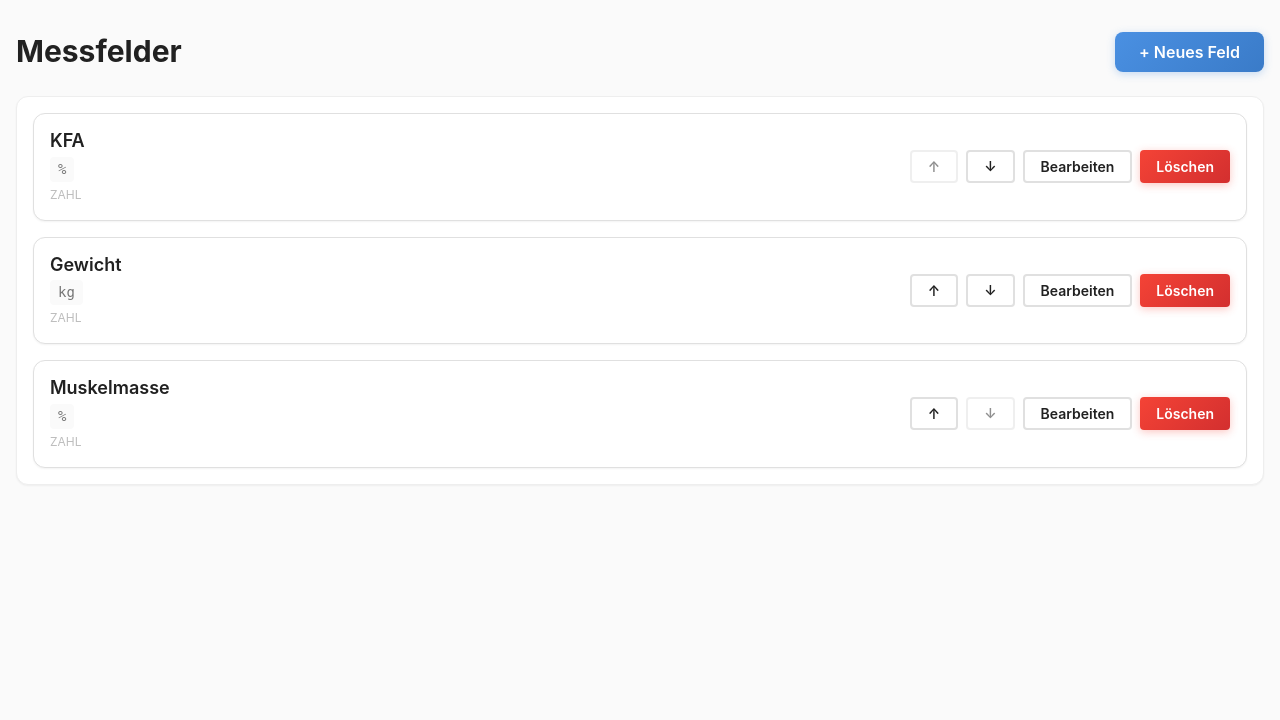
it: FieldsPage Component › Delete Field - With Config Impact › should show warning when field is used in view configs
Click the 1st button "Löschen": click(1185, 167) [1140, 150, 1230, 183]
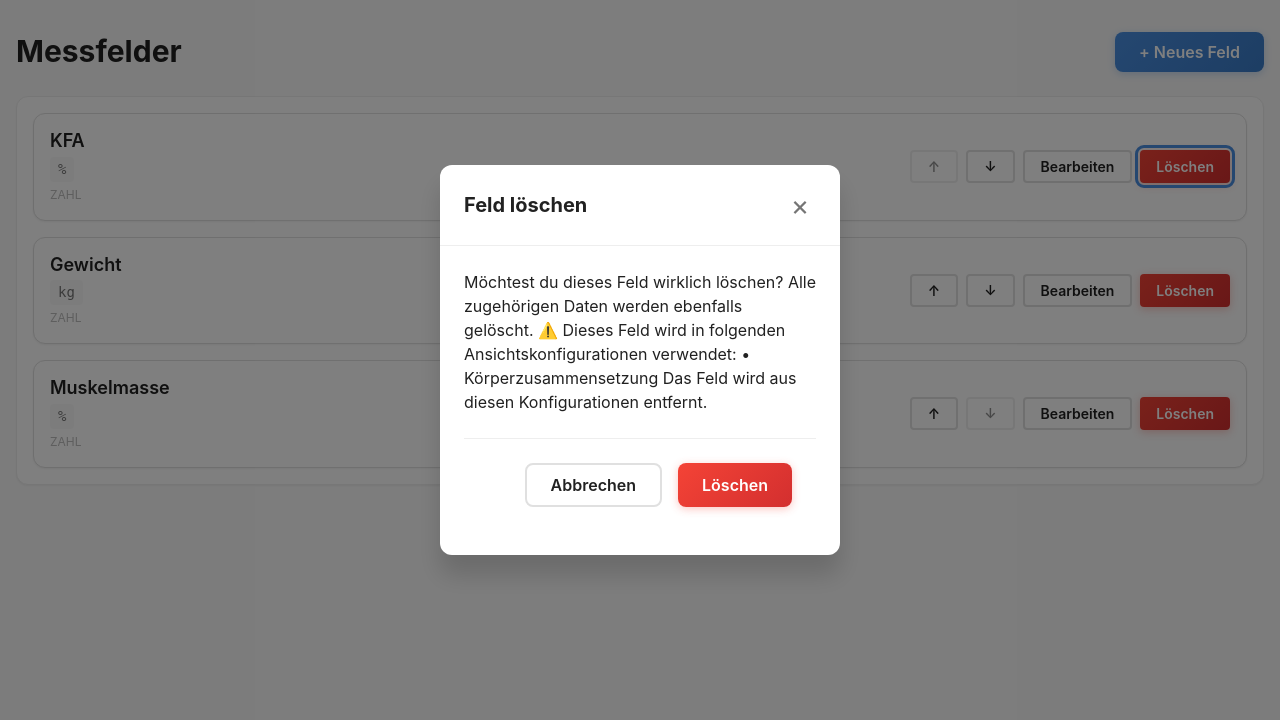
Expected: the heading "Feld löschen" is shown, [464, 192, 587, 218]
Expected: the text "Das Feld wird aus diesen Konfigurationen entfernt" is shown, [464, 272, 816, 412]
